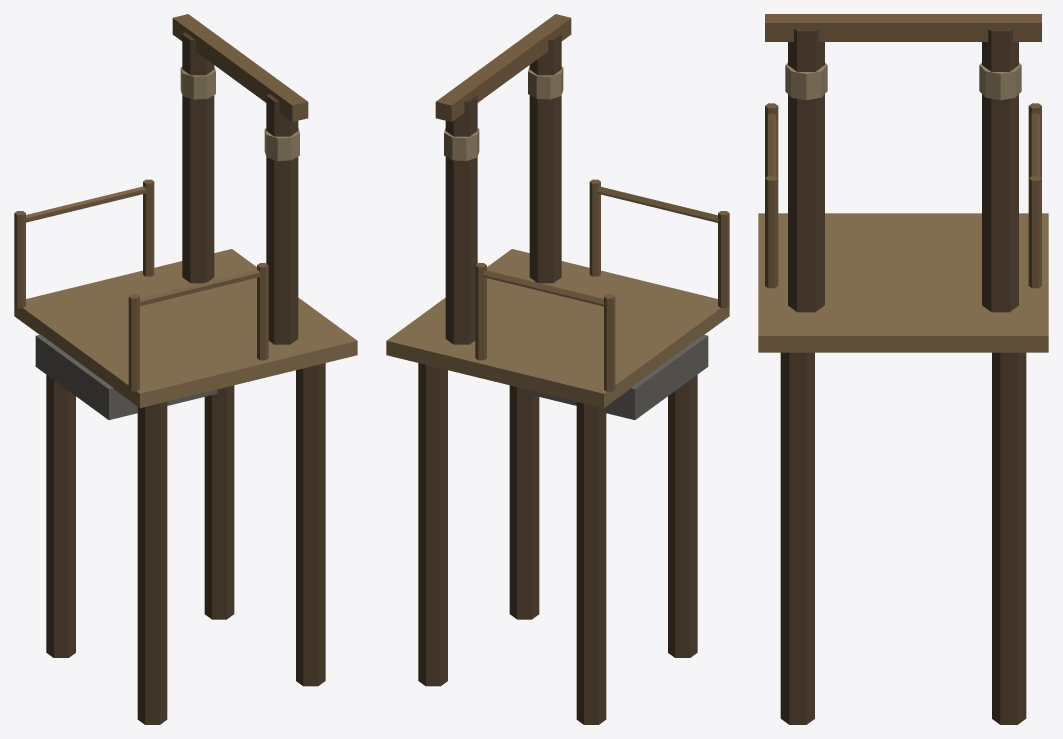
File: K_BridgeAnchor.glb
The picture shows the model from 3 angles, left to right: view 1: azimuth 30°, elevation 25°; view 2: azimuth 150°, elevation 25°; view 3: azimuth 270°, elevation 25°; orthographic projection. The views are drawn at different scales.
Parts seen in each view (by area): view 1: K_BridgeAnchor; view 2: K_BridgeAnchor; view 3: K_BridgeAnchor.
Boxes of the visible parts, left/top/right/bottom form: K_BridgeAnchor: left=14, top=14, right=357, bottom=724; K_BridgeAnchor: left=386, top=14, right=729, bottom=724; K_BridgeAnchor: left=758, top=14, right=1048, bottom=724.
Size of the model in its own units: 2.25 by 5.74 by 2.2.
